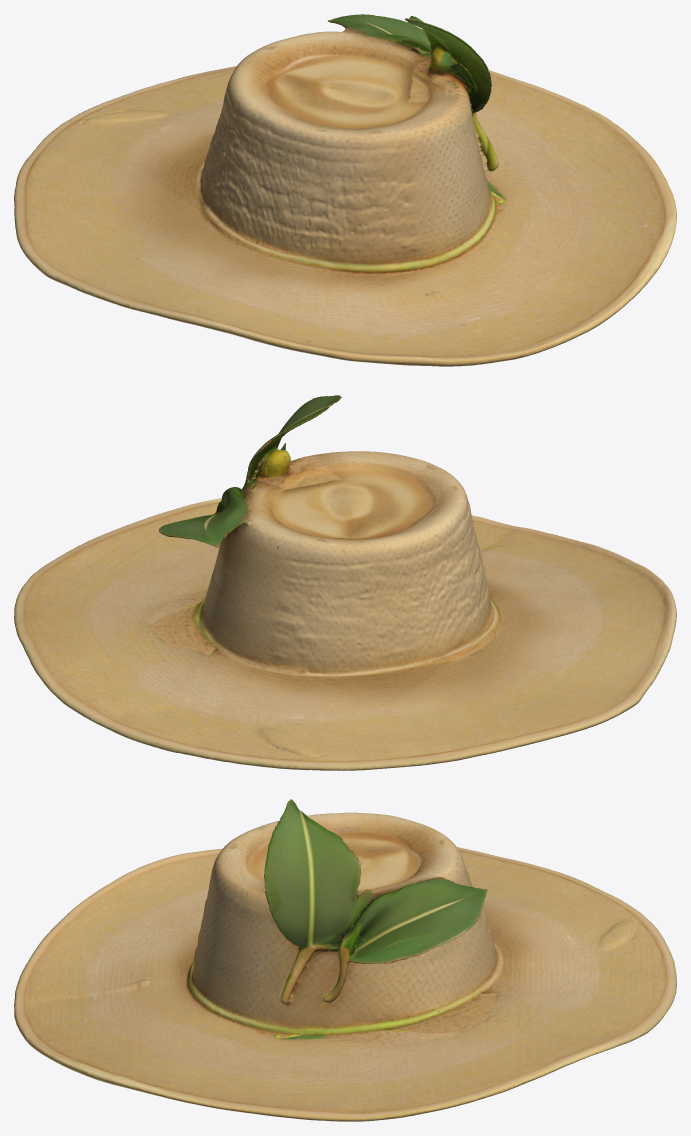
File: simple_straw_hat.glb
3 views of the same model, one above another, from view 1: azimuth 30°, elevation 25°; view 2: azimuth 150°, elevation 25°; view 3: azimuth 270°, elevation 25° (orthographic). The views are drawn at different scales.
Size of the model in its own units: 1.99 by 0.757 by 2.01.
Materials: 1 (1 with a texture image).
